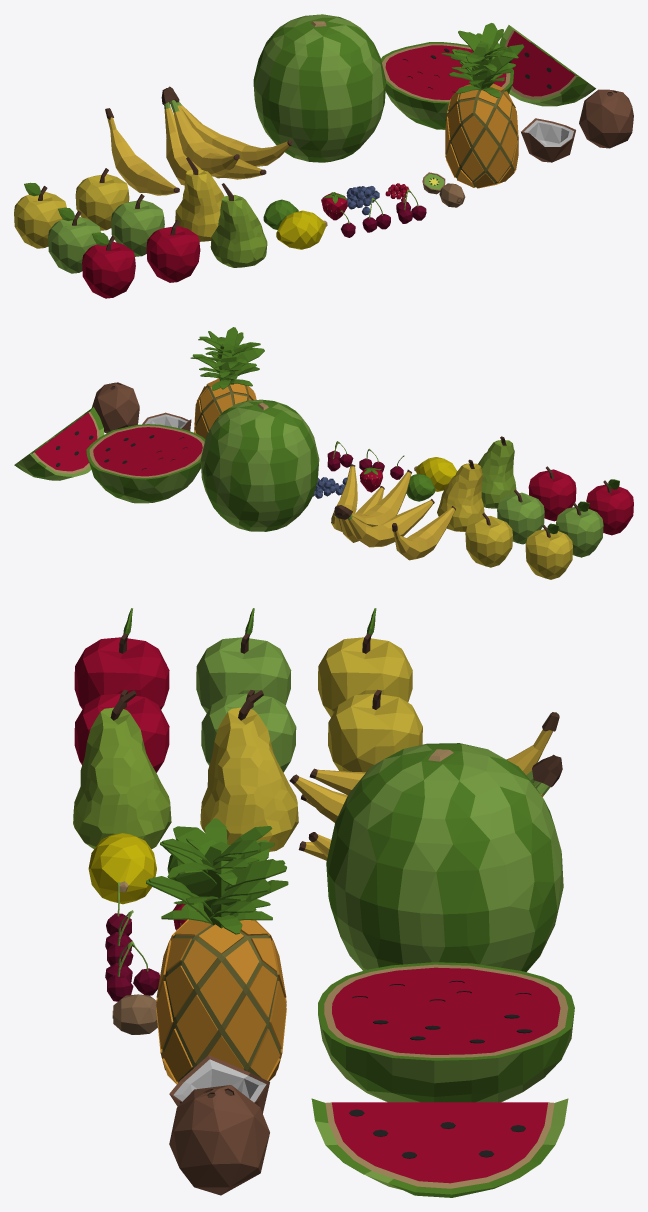
The model's file is fruits.fbx.
3 renders of one model, top to bottom at view 1: azimuth 30°, elevation 25°; view 2: azimuth 150°, elevation 25°; view 3: azimuth 270°, elevation 25°, orthographic. The views are drawn at different scales.
Parts seen in each view (by area): view 1: watermelon, Cube.004, watermelon_half, Cube, watermelon_slice, pear, apple.003, Sphere.002, Cube.001, apple, apple.004, apple.005 (+11 smaller); view 2: watermelon, watermelon_half, Cube.004, Cube, watermelon_slice, Cube.001, apple.005, apple.002, pear, Sphere.002, apple.003, apple.004 (+9 smaller); view 3: watermelon, watermelon_half, Cube.004, watermelon_slice, pear, Cube.001, Sphere.002, apple.002, apple.005, apple.004, apple.003, lemon (+8 smaller).
Part boxes in pixels (box(x1,y1,x2,y2)): watermelon: box(253, 14, 385, 162); Cube.004: box(441, 23, 524, 188); watermelon_half: box(381, 42, 513, 129); Cube: box(161, 86, 292, 185); watermelon_slice: box(499, 25, 595, 106); pear: box(210, 183, 267, 267); apple.003: box(82, 232, 135, 298); Sphere.002: box(579, 89, 633, 148); Cube.001: box(175, 157, 224, 241); apple: box(146, 220, 200, 282); apple.004: box(48, 207, 100, 273); apple.005: box(14, 182, 66, 248); watermelon: box(200, 399, 319, 531); watermelon_half: box(86, 424, 205, 503); Cube.004: box(190, 327, 264, 439); Cube: box(331, 464, 434, 547); watermelon_slice: box(14, 407, 104, 480); Cube.001: box(437, 459, 484, 531); apple.005: box(525, 523, 572, 579); apple.002: box(465, 513, 512, 567); pear: box(478, 436, 516, 508); Sphere.002: box(92, 382, 139, 433); apple.003: box(586, 479, 633, 535); apple.004: box(556, 501, 603, 557); watermelon: box(326, 743, 563, 972); watermelon_half: box(318, 962, 574, 1102); Cube.004: box(146, 818, 288, 1084); watermelon_slice: box(311, 1098, 568, 1197); pear: box(73, 690, 171, 849); Cube.001: box(200, 690, 298, 851); Sphere.002: box(169, 1085, 269, 1195); apple.002: box(328, 689, 422, 772); apple.005: box(318, 608, 412, 717); apple.004: box(196, 608, 291, 713); apple.003: box(74, 608, 169, 709); lemon: box(88, 833, 156, 904).
Bounding box in the file's own units: 1937 × 463 × 806.
